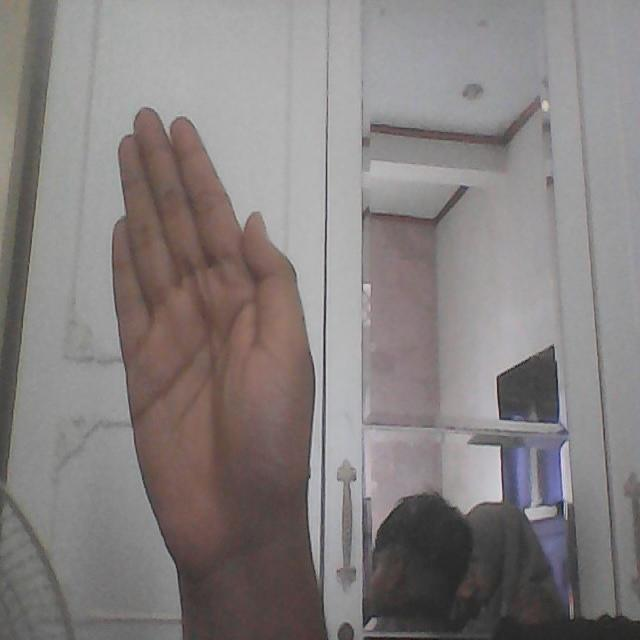hand: (110, 103, 322, 580)
